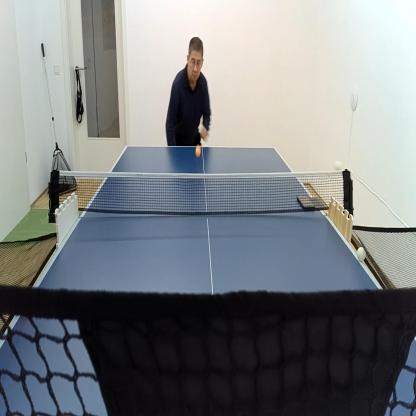Ball: (358, 248, 366, 262), (335, 162, 340, 172), (196, 146, 201, 156)
